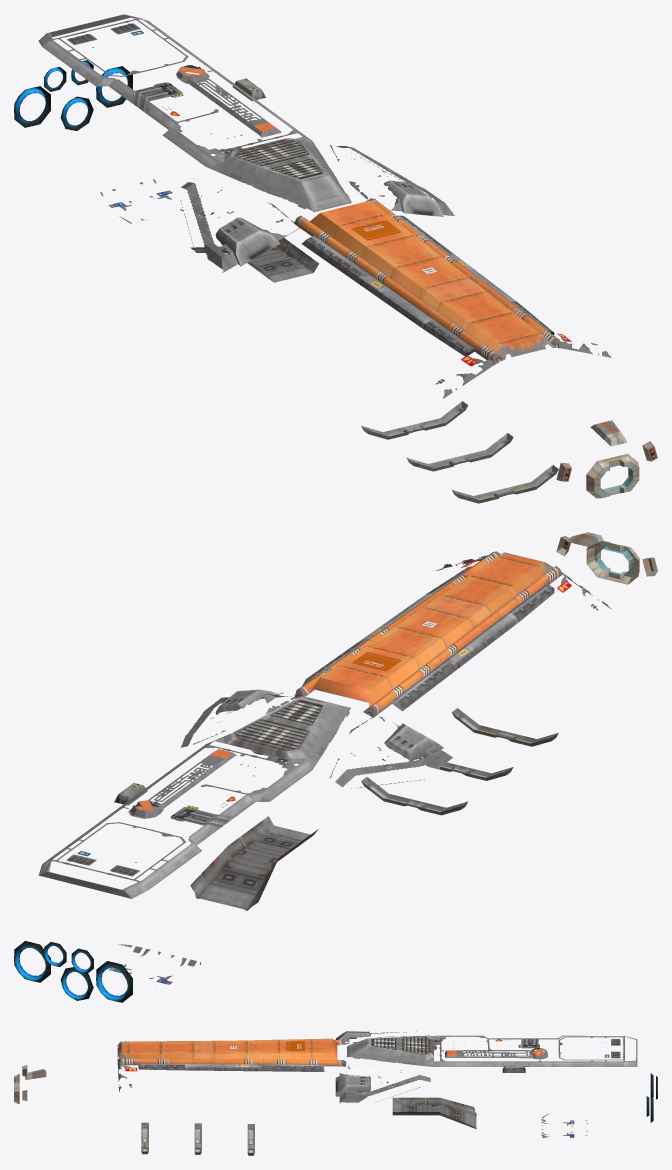
Rendered from Goblins.obj.
3 views of the same model, one above another, from view 1: azimuth 30°, elevation 25°; view 2: azimuth 150°, elevation 25°; view 3: azimuth 270°, elevation 25° (orthographic). The views are drawn at different scales.
Parts seen in each view (by area): view 1: FrontUV, Engine; view 2: FrontUV, Engine; view 3: FrontUV, Engine.
Part boxes in pixels (x1=…): FrontUV: x1=38, y1=14, x2=657, y2=503; Engine: x1=14, y1=60, x2=132, y2=130; FrontUV: x1=38, y1=532, x2=657, y2=984; Engine: x1=14, y1=941, x2=132, y2=1002; FrontUV: x1=14, y1=1031, x2=637, y2=1155; Engine: x1=646, y1=1073, x2=657, y2=1122.
Bounding box in the file's own units: 35.45 × 26.2 × 145.
